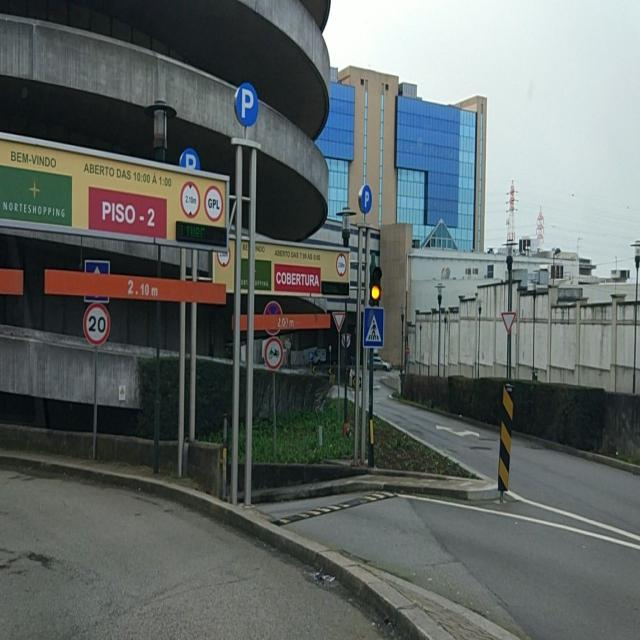car: (372, 357, 392, 371)
